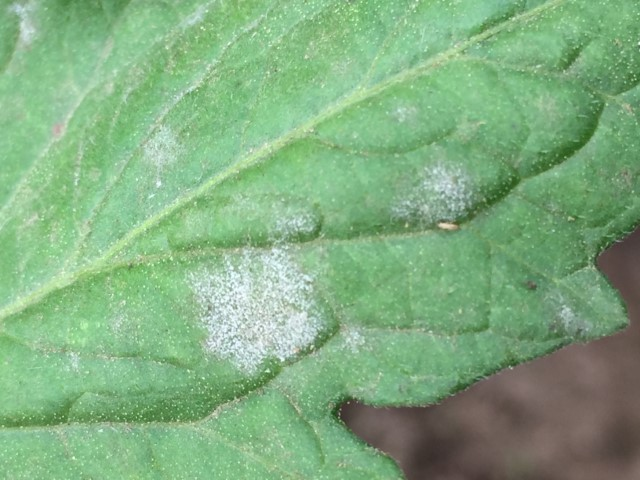oidio: (188, 243, 326, 377), (388, 159, 470, 229), (254, 197, 319, 242), (142, 126, 185, 167), (7, 1, 40, 48), (552, 299, 582, 339), (175, 3, 208, 32), (340, 326, 368, 357), (391, 103, 418, 122)
